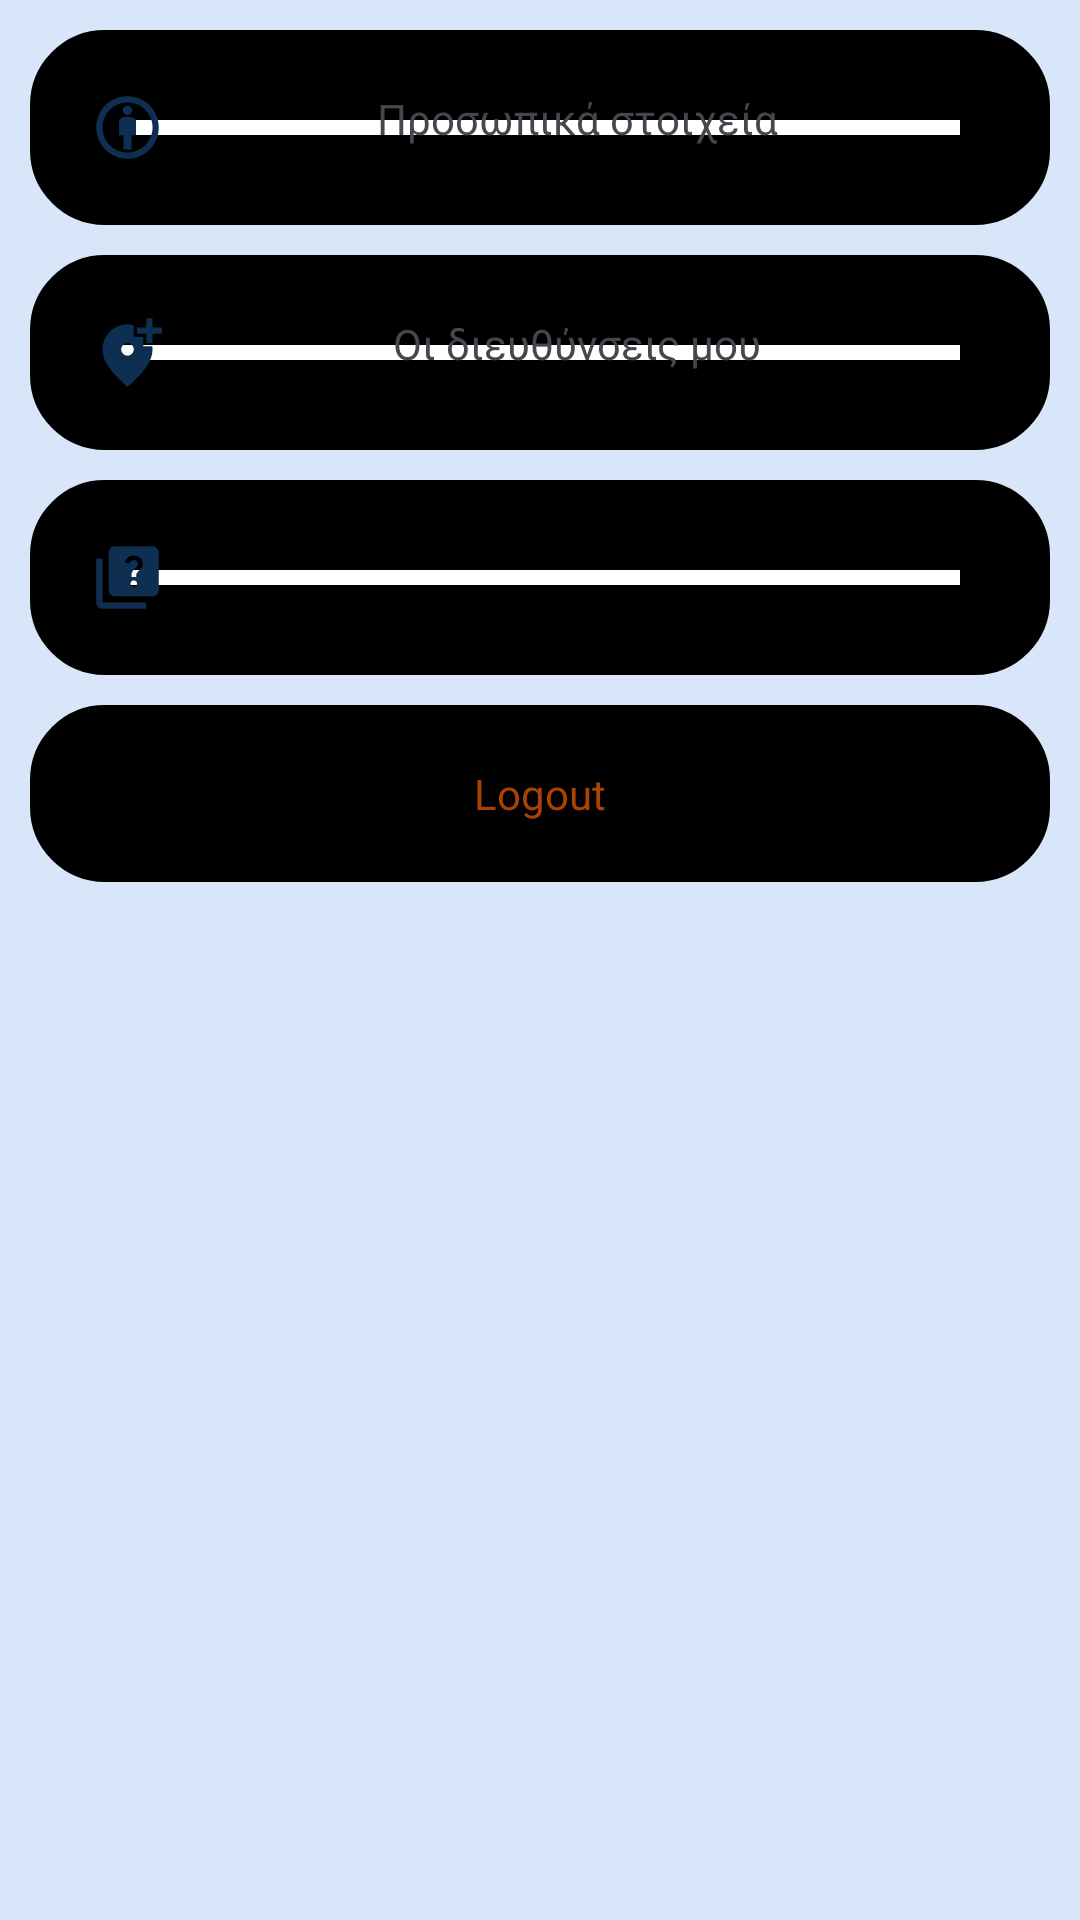

Screen size 1080px×1920px. Icon name, then its center in pixels as [x,y]:
add location: [133,352]
quiz: [130,577]
